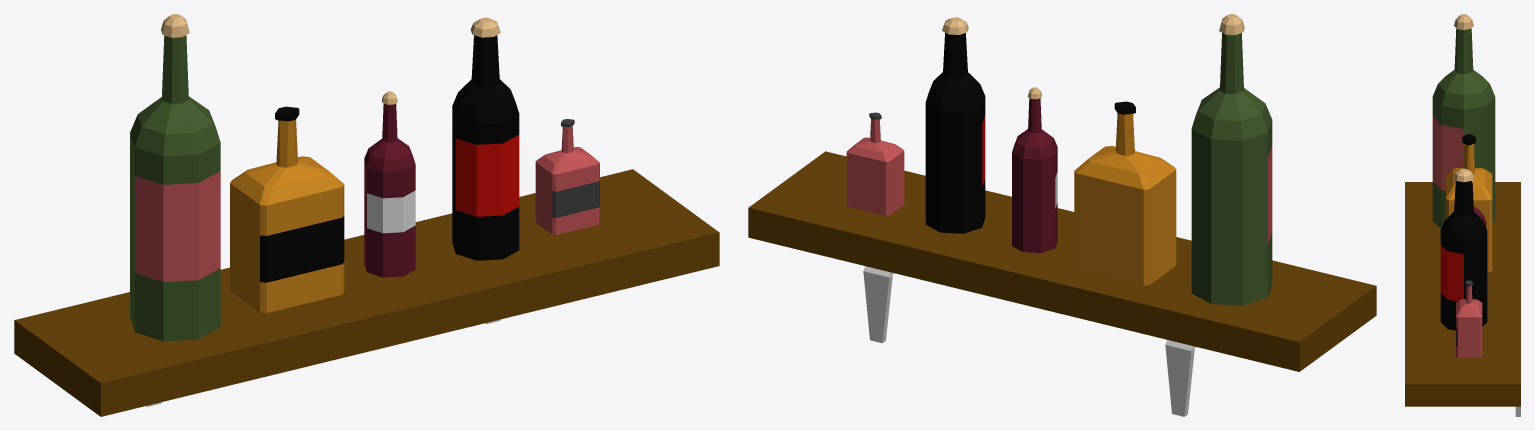
File: R_Drinks_1.fbx
The picture shows the model from 3 angles, left to right: view 1: azimuth 30°, elevation 25°; view 2: azimuth 150°, elevation 25°; view 3: azimuth 270°, elevation 25°; orthographic projection. The views are drawn at different scales.
Visible parts, largest first — view 1: R_Drinks_1; view 2: R_Drinks_1; view 3: R_Drinks_1.
Part boxes in pixels (box(x1,y1,x2,y2)): R_Drinks_1: box(14, 14, 719, 416); R_Drinks_1: box(748, 14, 1376, 416); R_Drinks_1: box(1405, 14, 1520, 416).
Size of the model in its own units: 826 by 200 by 538.
